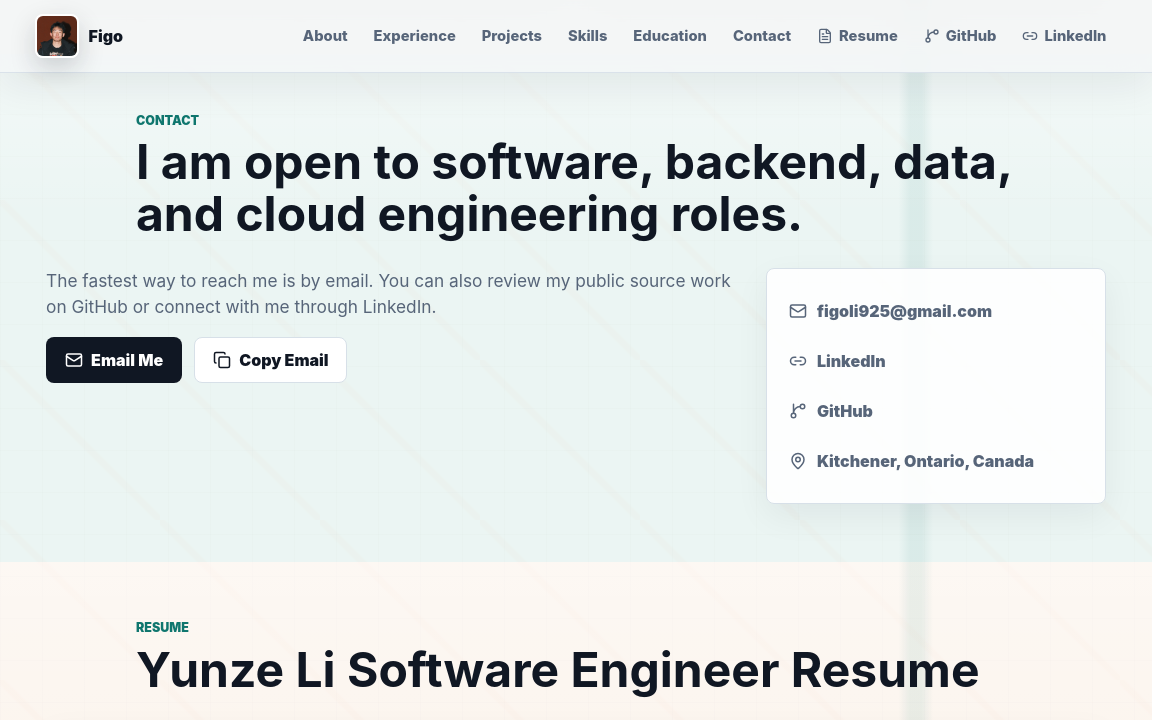
portfolio interactions › copies the public email address
The image size is (1152, 720).
(page scrolled)
Click the button "Copy Email" at {"x": 271, "y": 360}, box [194,337,348,383]
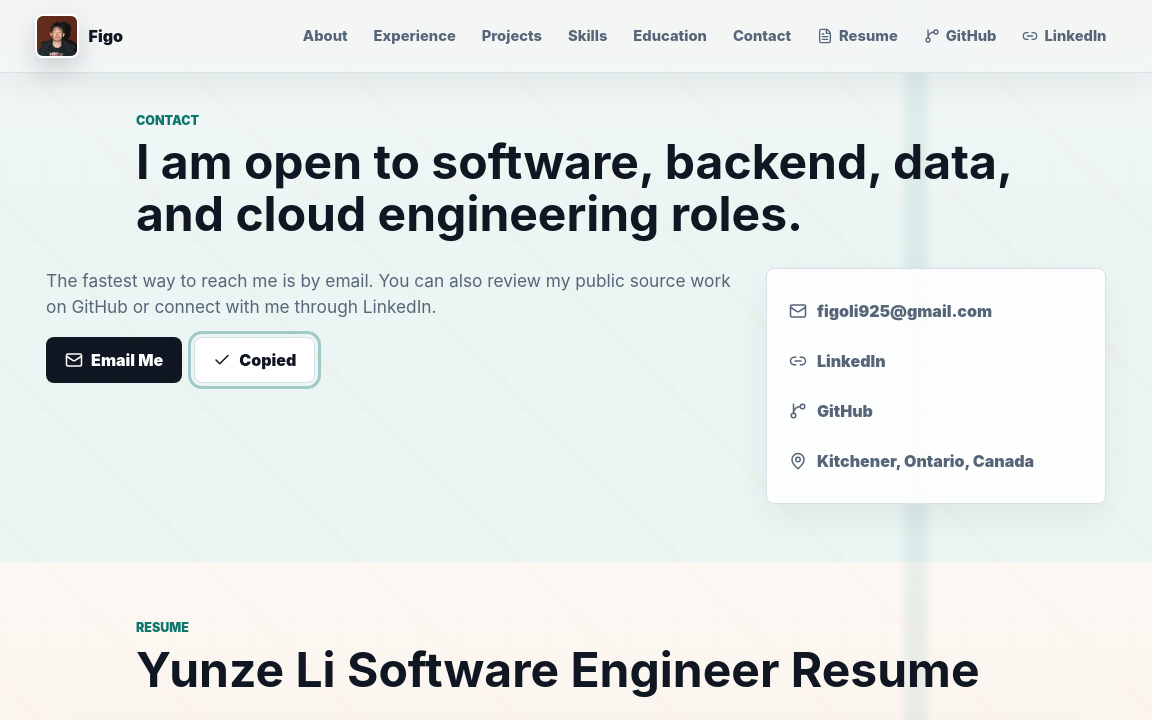
Now the button "Copied" is shown, box [194,337,315,383]
